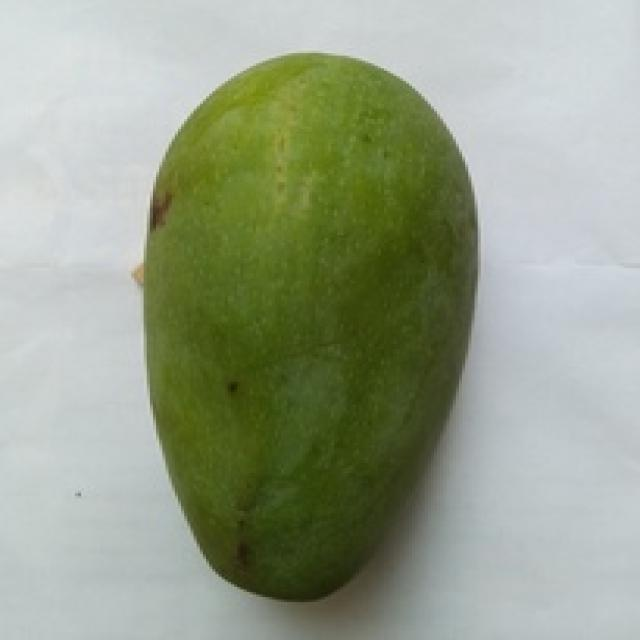Mango: (147, 53, 475, 600)
